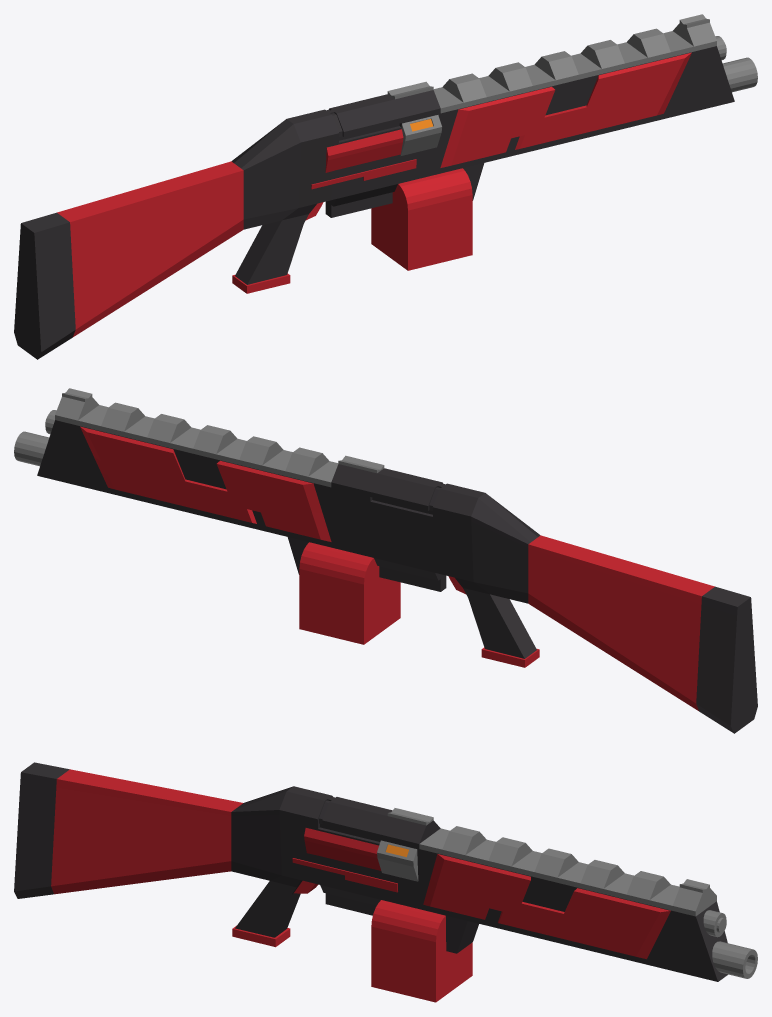
File: Ametralladora.fbx
3 renders of one model, top to bottom at view 1: azimuth 30°, elevation 25°; view 2: azimuth 150°, elevation 25°; view 3: azimuth 330°, elevation 25°, orthographic.
Visible parts, largest first — view 1: Cylinder.021; view 2: Cylinder.021; view 3: Cylinder.021.
Boxes of the visible parts, x1=… form: Cylinder.021: x1=14, y1=14, x2=757, y2=359; Cylinder.021: x1=14, y1=388, x2=757, y2=733; Cylinder.021: x1=14, y1=762, x2=757, y2=1002.
Size of the model in its own units: 0.9741 by 0.2192 by 0.0855.
